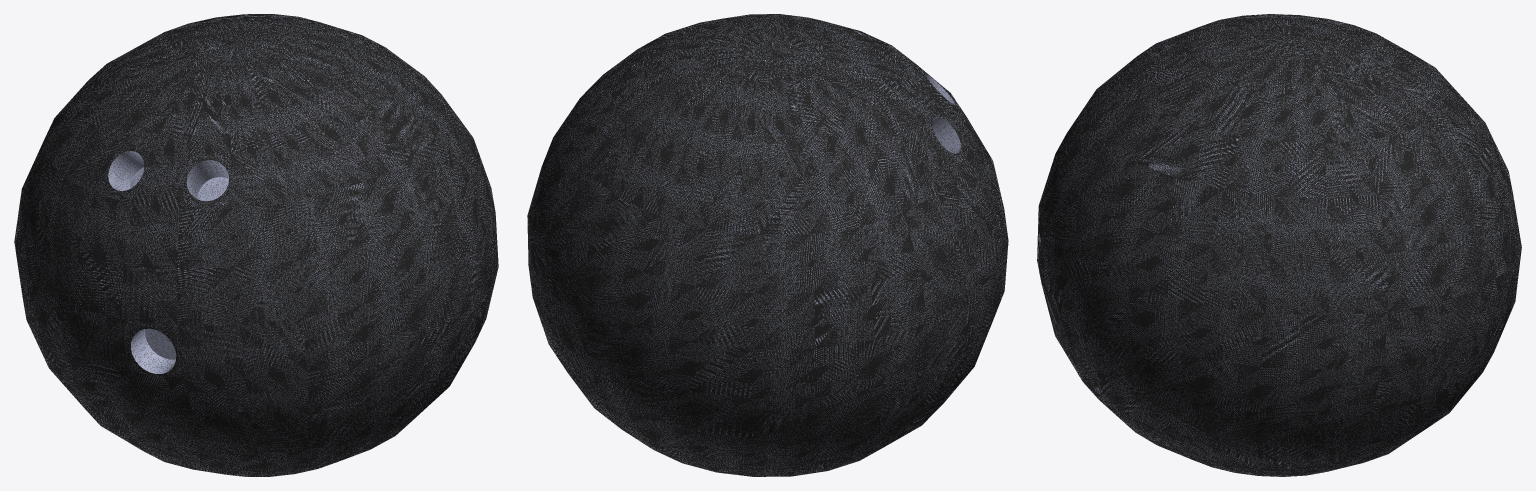
Rendered from pelota2.fbx.
The picture shows the model from 3 angles, left to right: view 1: azimuth 30°, elevation 25°; view 2: azimuth 150°, elevation 25°; view 3: azimuth 270°, elevation 25°; orthographic projection.
Visible parts, largest first — view 1: Group1; view 2: Group1; view 3: Group1.
Part boxes in pixels (box(x1,y1,x2,y2)): Group1: box(14, 14, 498, 476); Group1: box(527, 14, 1008, 476); Group1: box(1037, 14, 1521, 476).
Bounding box in the file's own units: 12.2 × 11.42 × 12.21.
